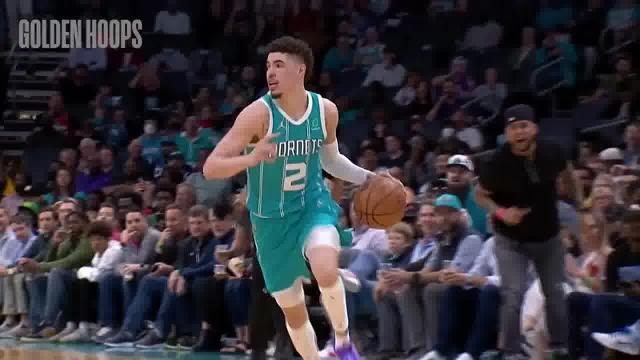ball-handler: (197, 32, 408, 360)
